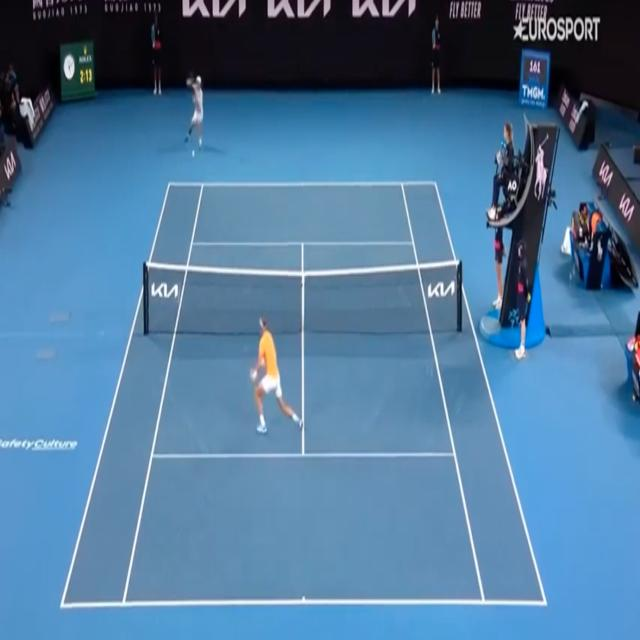ball: (192, 150, 195, 158)
